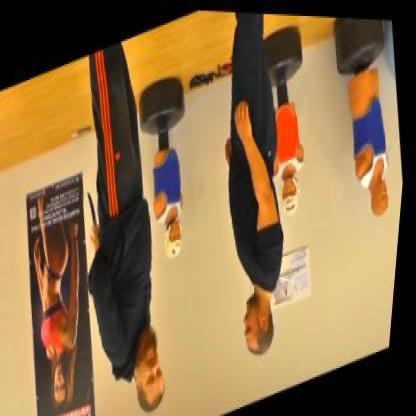knife: (85, 185, 107, 245)
